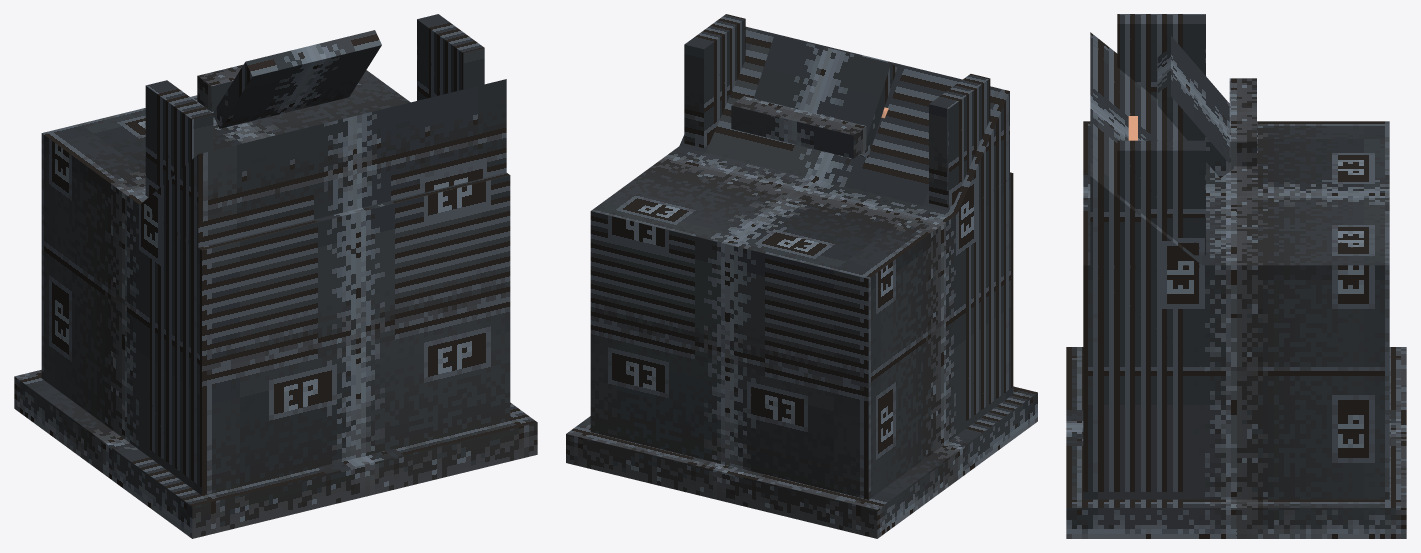
File: hub_abandon_station.glb
3 renders of one model, left to right at view 1: azimuth 30°, elevation 25°; view 2: azimuth 150°, elevation 25°; view 3: azimuth 270°, elevation 25°, orthographic. The views are drawn at different scales.
Visible parts, largest first — view 1: hub_abandon_station; view 2: hub_abandon_station; view 3: hub_abandon_station.
Boxes of the visible parts, left/top/right/bottom form: hub_abandon_station: left=14, top=14, right=537, bottom=538; hub_abandon_station: left=566, top=14, right=1037, bottom=538; hub_abandon_station: left=1066, top=14, right=1406, bottom=538.
Bounding box in the file's own units: 1.12 × 1.27 × 1.
2 materials, 1 textured.
